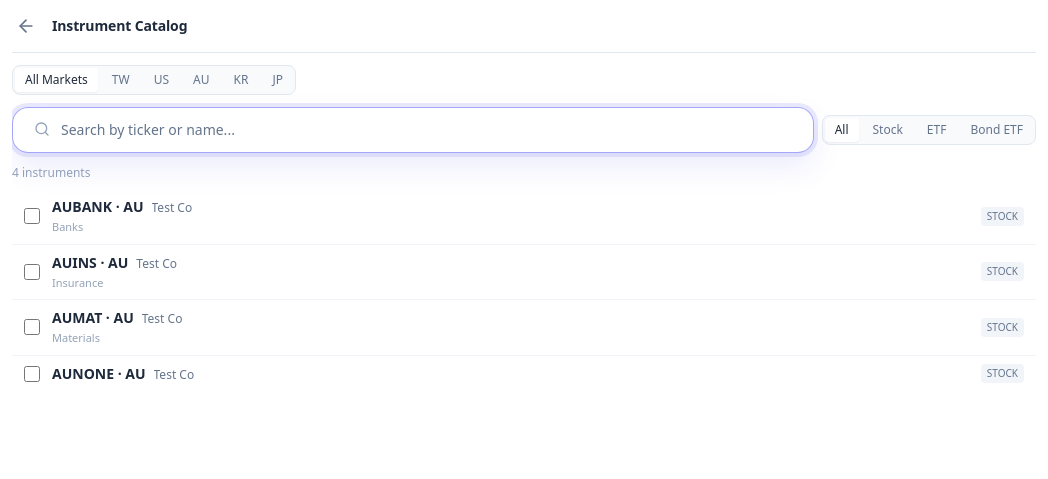
Test: InstrumentCatalogSheet sector filtering › filters AU rows by industry-group expansion and keeps the industry-group subtitle
Click the button "AU".
click(201, 80)  # box [183,68,220,92]
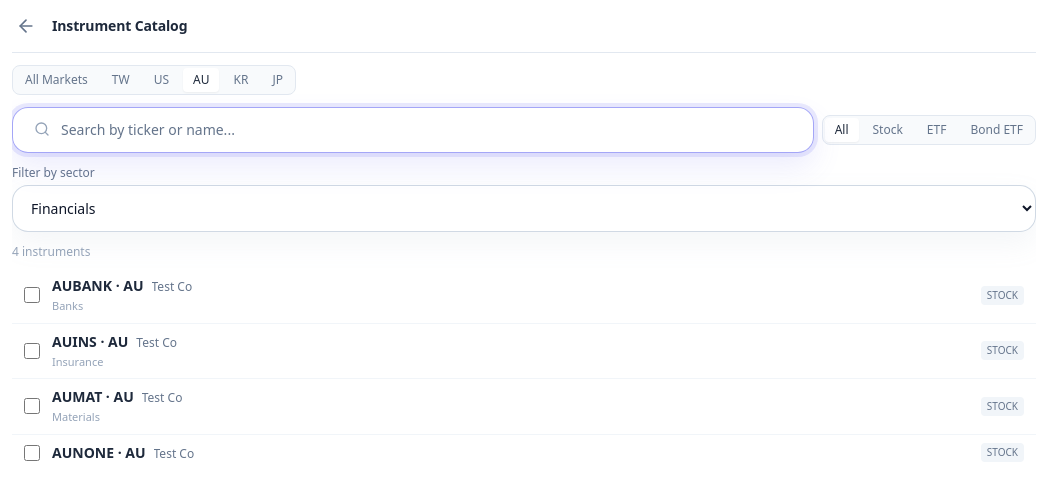
Select "Financials" in the dropdown with test id "catalog-sector-filter" at (524, 208), box [12,185,1036,232]
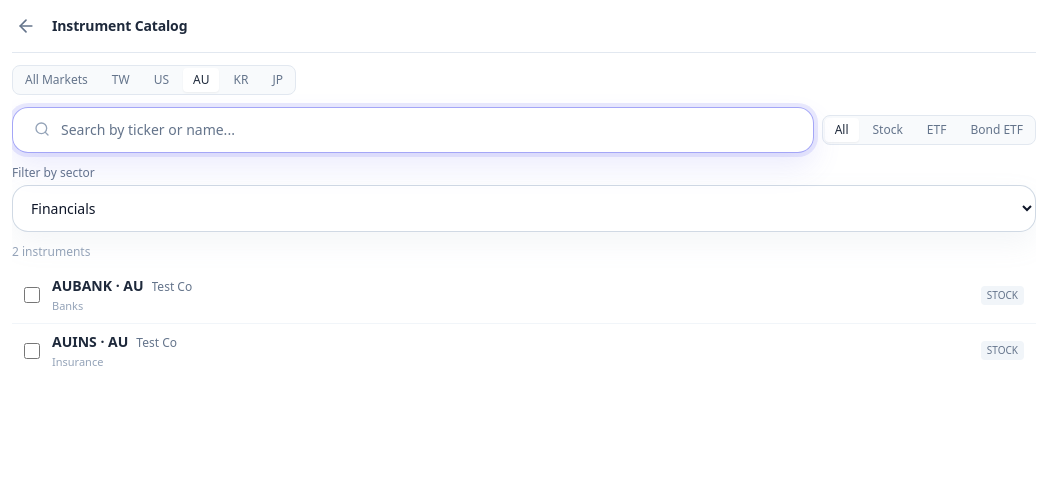
Check: the text "AUBANK · AU Test Co Banks STOCK" is shown, box [12,268,1036,322]
Check: the label with test id "catalog-item-AUMAT" is gone
Check: the label with test id "catalog-item-AUNONE" is gone
